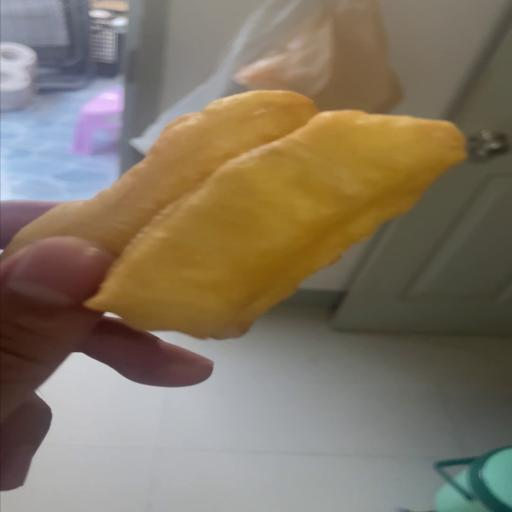street_golden_good: (1, 91, 466, 339)
